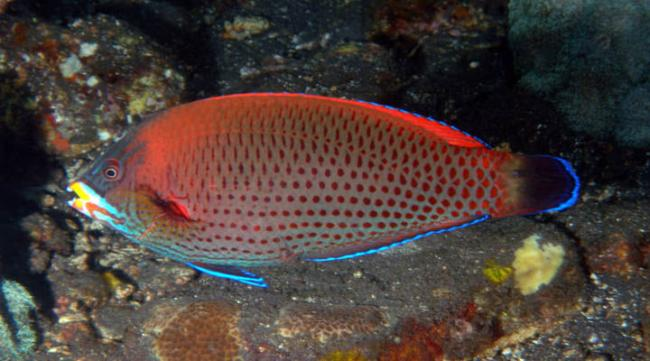fish: (67, 91, 582, 290)
